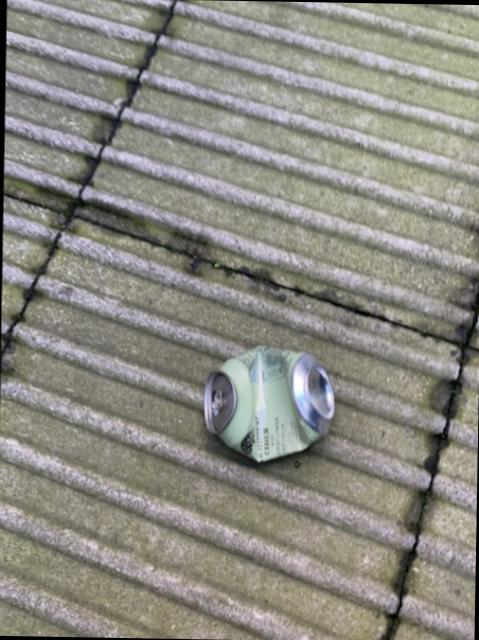metal: (202, 344, 331, 459)
